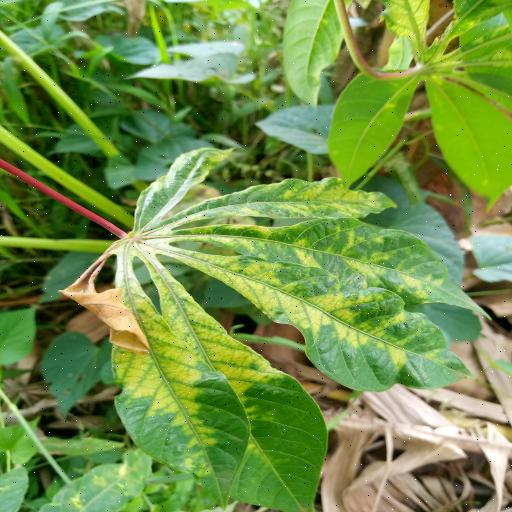Cassava_Mosaic: (70, 143, 500, 512)
